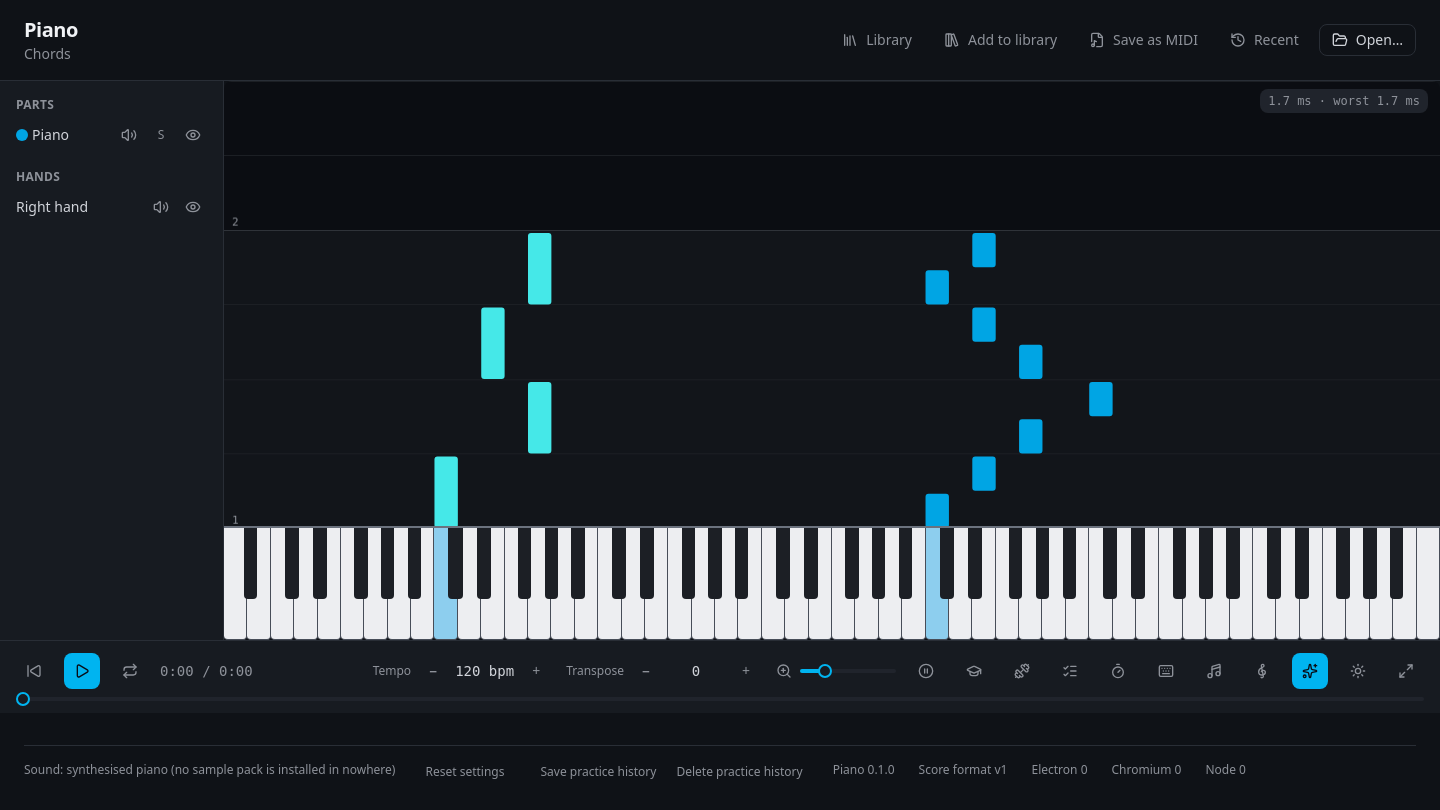
Scenario: keeping a worked-out version in the score › writes the proposal into the open file, and plays the kept one from then on
What coordinates should you click on to do the following:
click the button named "Level"
I would click on:
 (974, 671)
Its box is [956,653,992,689].
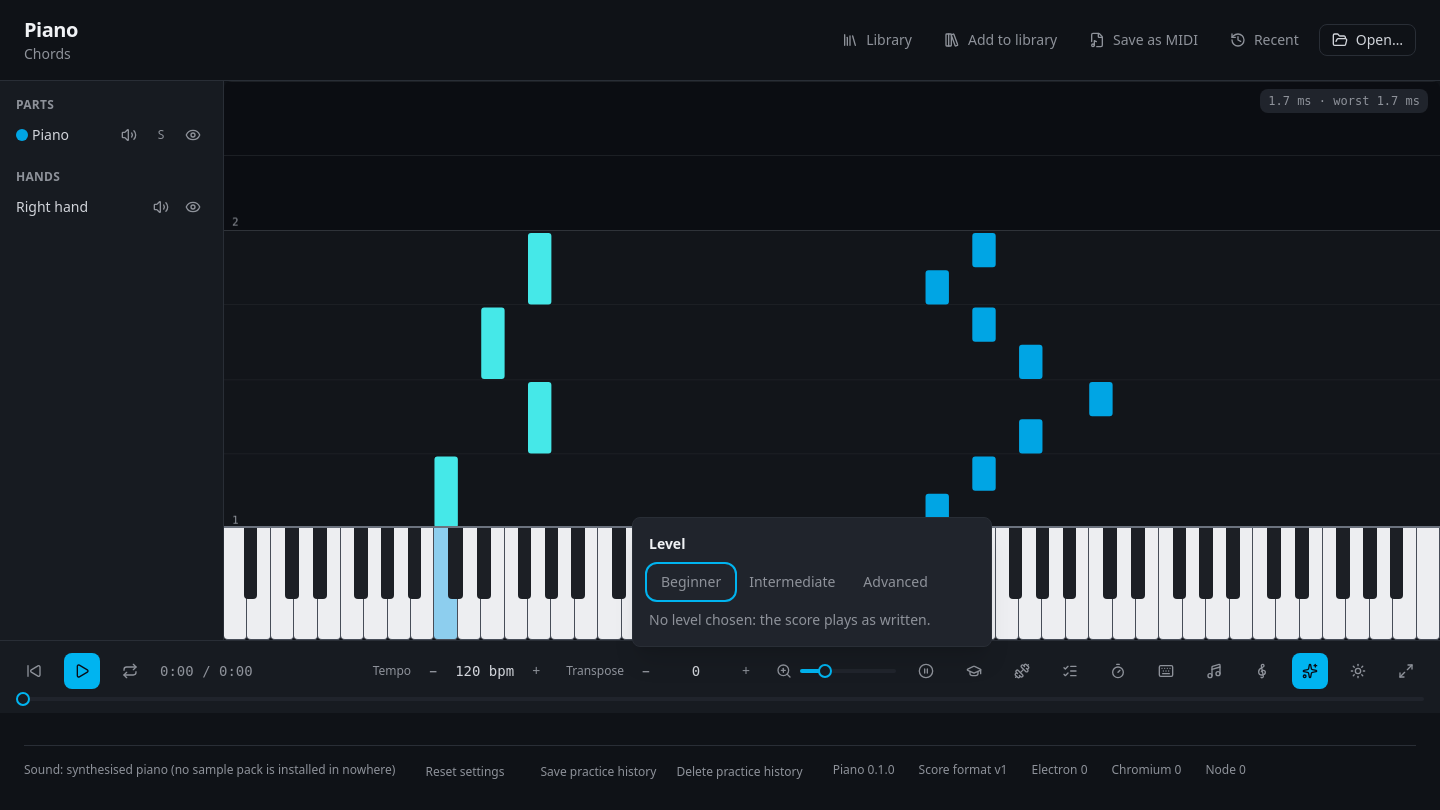
Now the heading "Level" is shown, box [649,534,685,553]
What coordinates should you click on to do the following:
click the button "Beginner"
I would click on:
 (691, 582)
Its box is [649,566,733,598].
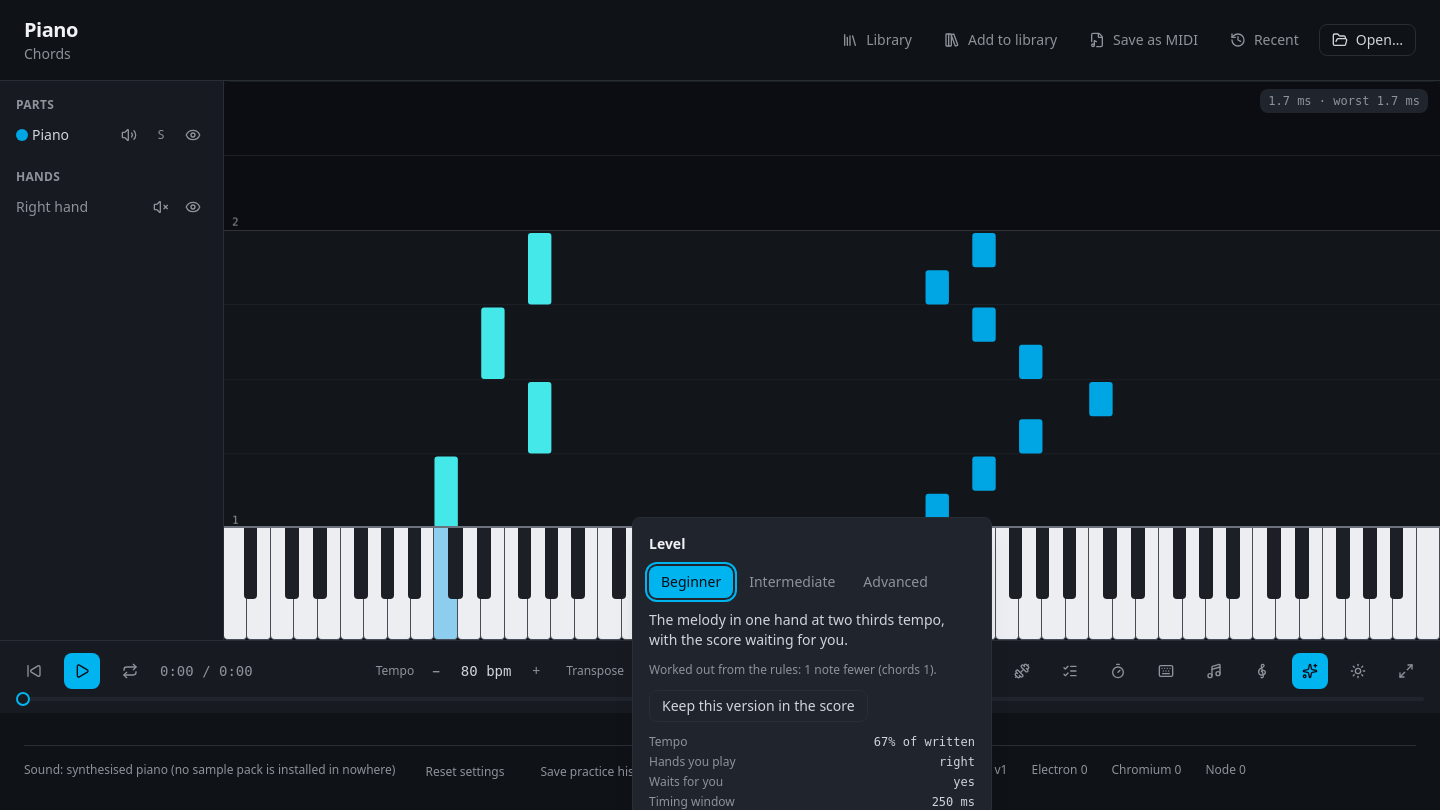
Now the text "Worked out from the rules: 1 note fewer (chords 1)." is shown, box [649,662,975,678]
What coordinates should you click on to do the following:
click the button "Keep this version in the score"
I would click on:
 (758, 706)
Its box is [649,690,868,722].
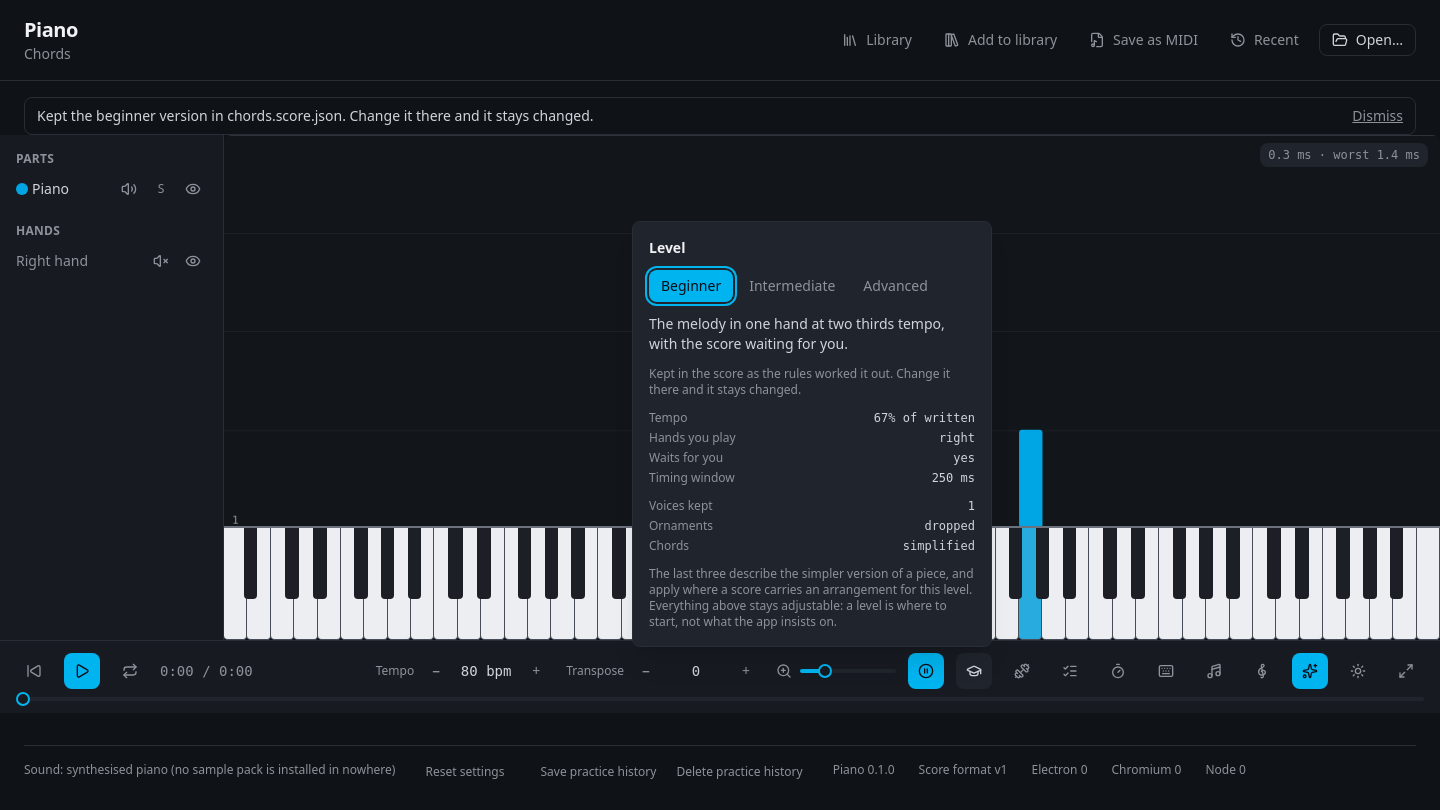
Now the text "Kept the beginner version in chords.score.json" is shown, box [37,106,594,125]
Now the text "Kept in the score as the rules worked it out" is shown, box [649,365,950,398]
Now the button "Keep this version in the score" is gone
